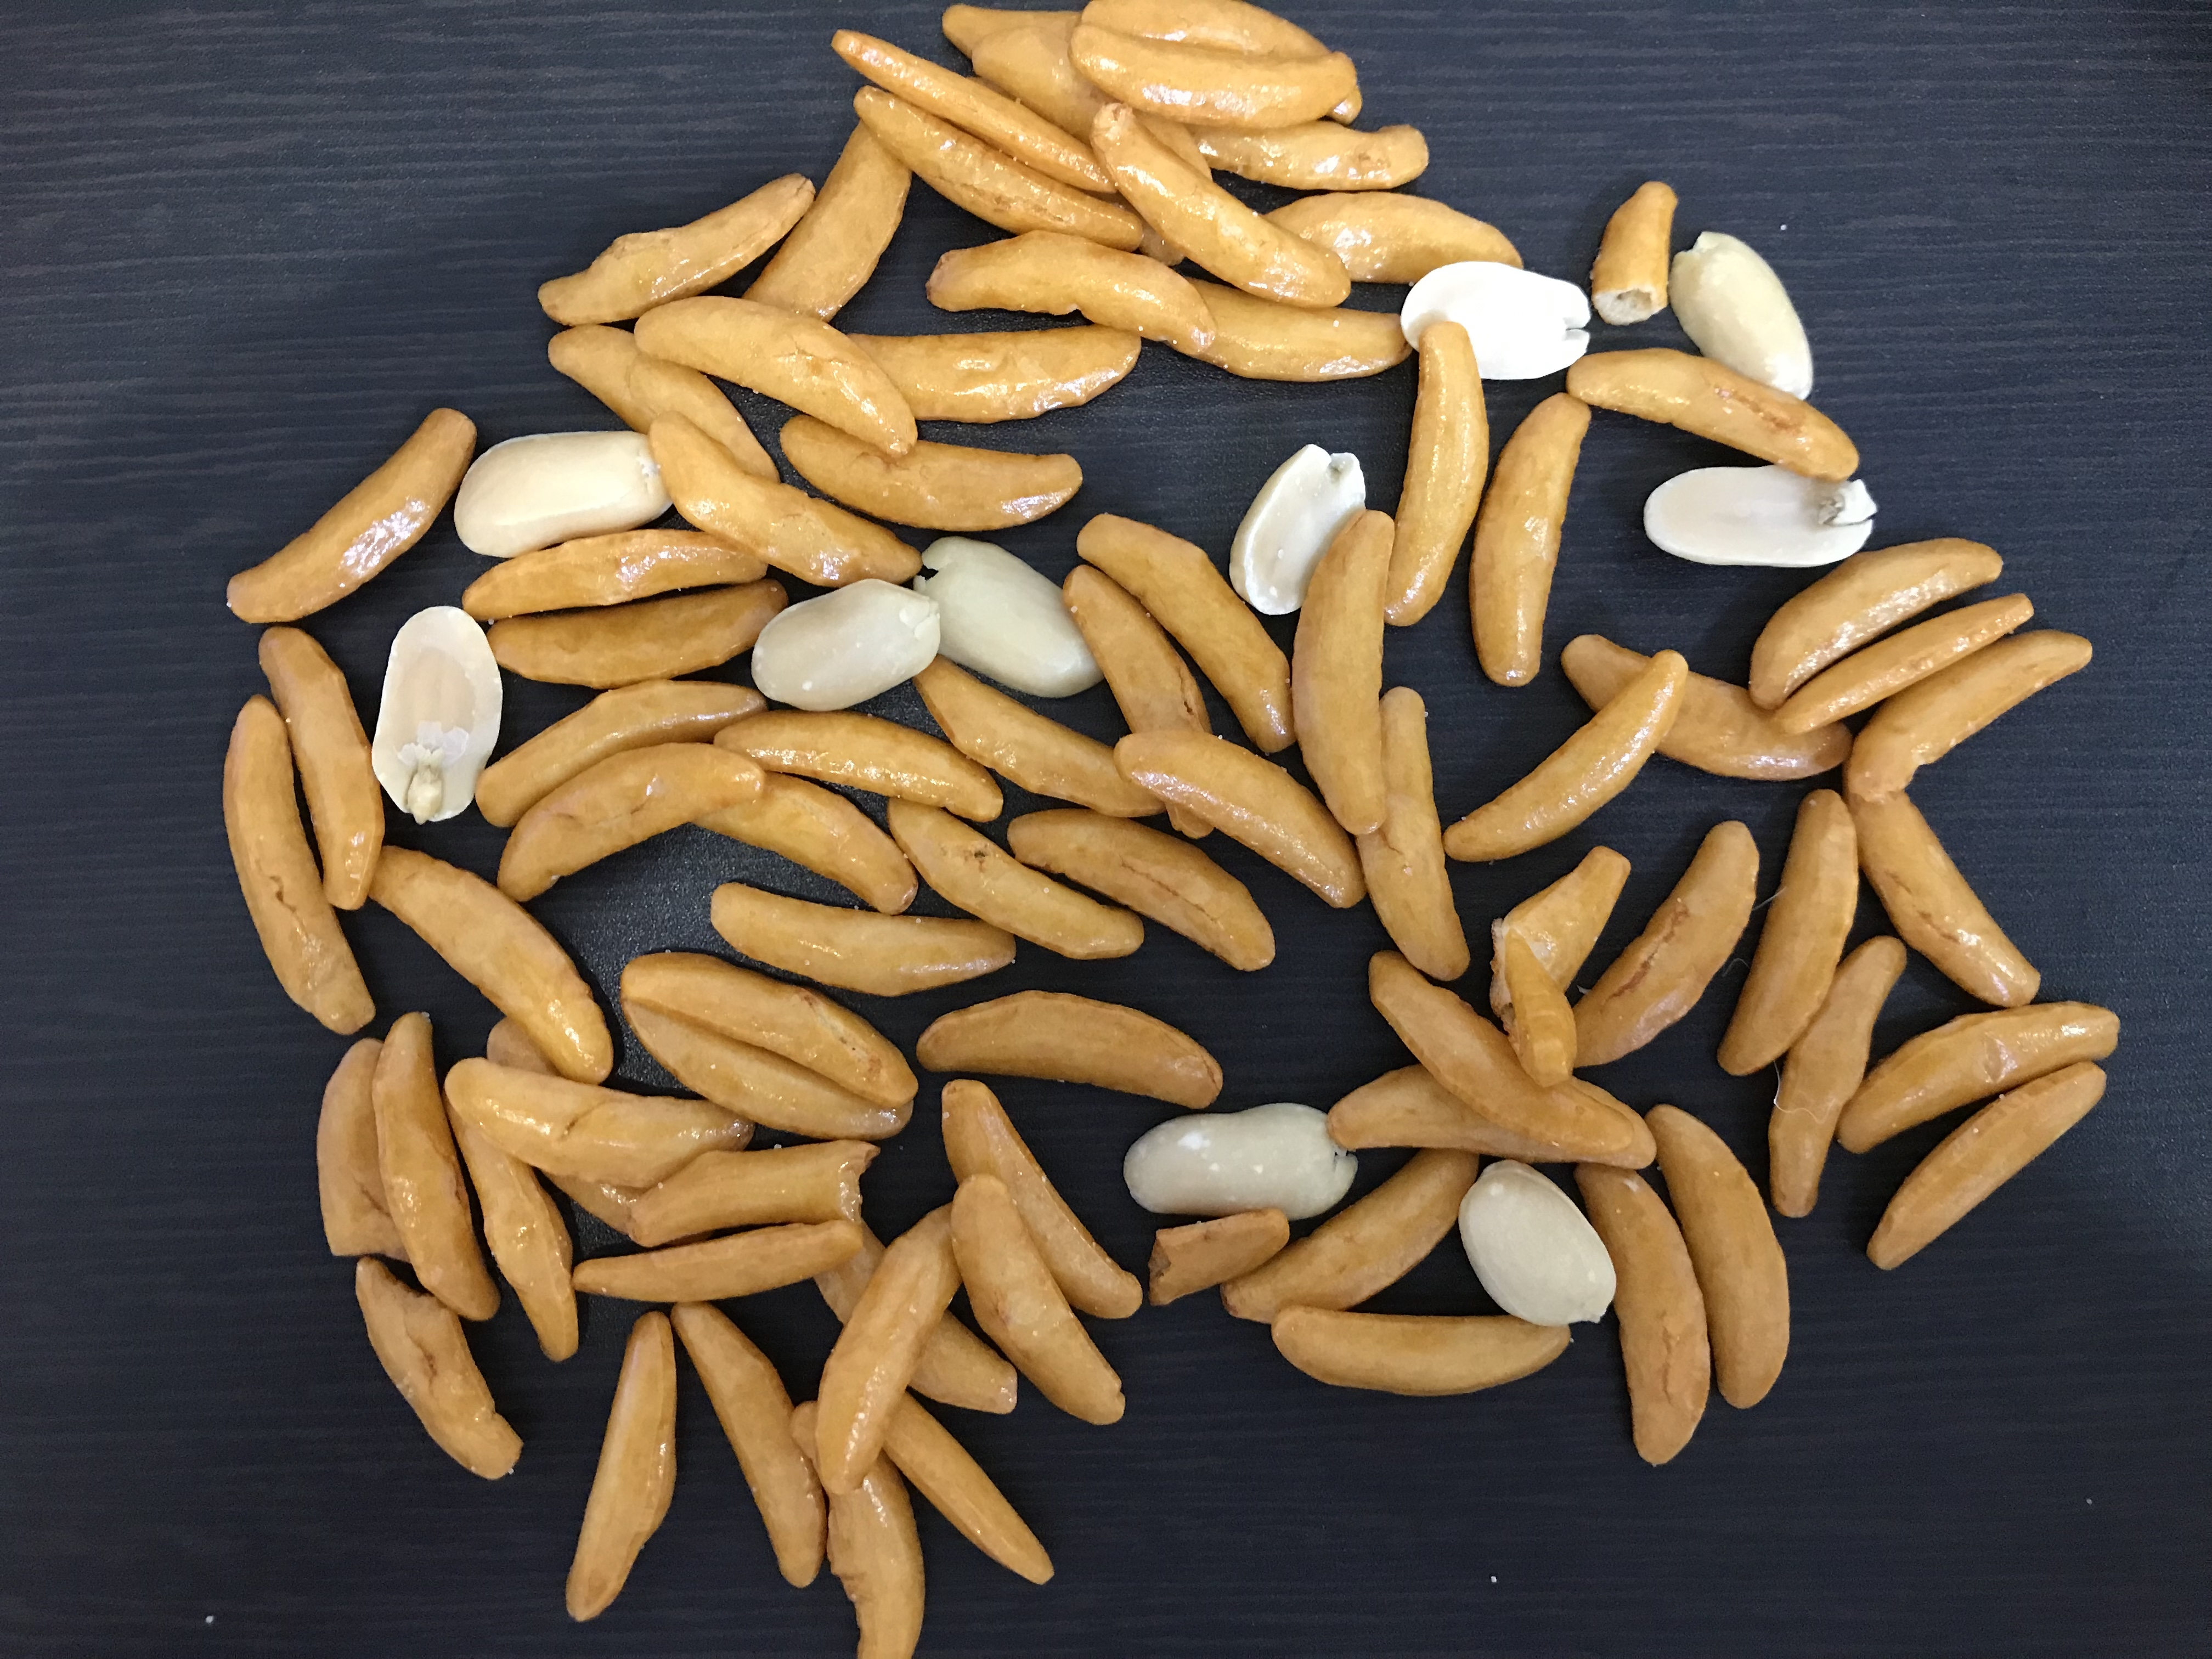peanut: (366, 601, 510, 816), (1113, 1098, 1366, 1216), (453, 425, 679, 552), (745, 573, 949, 709), (1458, 1161, 1627, 1319), (930, 538, 1103, 692), (1634, 457, 1878, 561), (1395, 260, 1599, 383), (1231, 441, 1378, 612), (1670, 232, 1811, 406)
